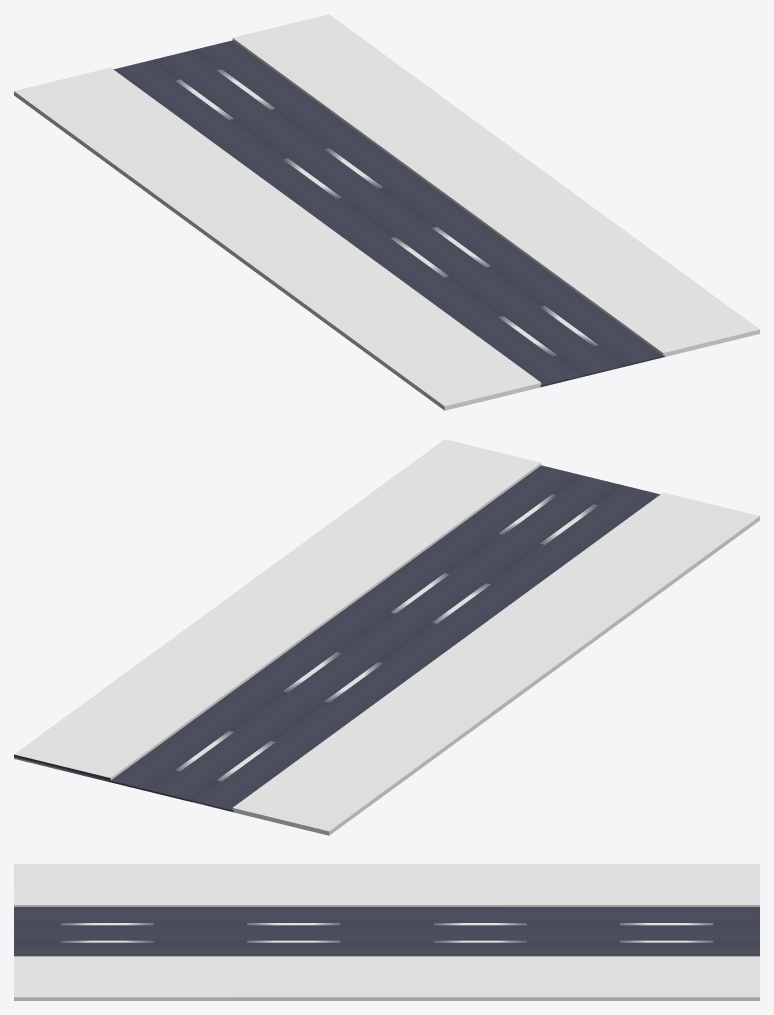
The model's file is Road1 (1).fbx.
3 renders of one model, top to bottom at view 1: azimuth 30°, elevation 25°; view 2: azimuth 150°, elevation 25°; view 3: azimuth 270°, elevation 25°, orthographic. The views are drawn at different scales.
Parts seen in each view (by area): view 1: Cube.002, Cube.003, Cube.011; view 2: Cube.002, Cube.003, Cube.011; view 3: Cube.002, Cube.011, Cube.003.
Part boxes in pixels (x1,y1,x2,y2): Cube.002: (113,40,664,387); Cube.003: (14,67,541,410); Cube.011: (232,14,759,356); Cube.002: (109,465,660,812); Cube.003: (232,492,759,835); Cube.011: (14,439,541,781); Cube.002: (14,907,759,956); Cube.011: (14,956,759,1000); Cube.003: (14,864,759,906).
Bounding box in the file's own units: 2281 × 30.2 × 5400.
